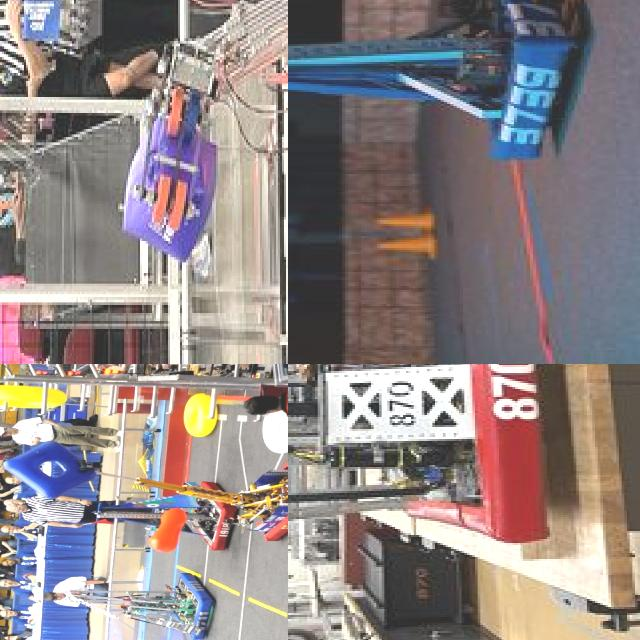FRC-Robots: (288, 364, 563, 640), (100, 0, 288, 364), (288, 0, 592, 160), (82, 446, 288, 546), (80, 470, 240, 558), (67, 561, 217, 640)
